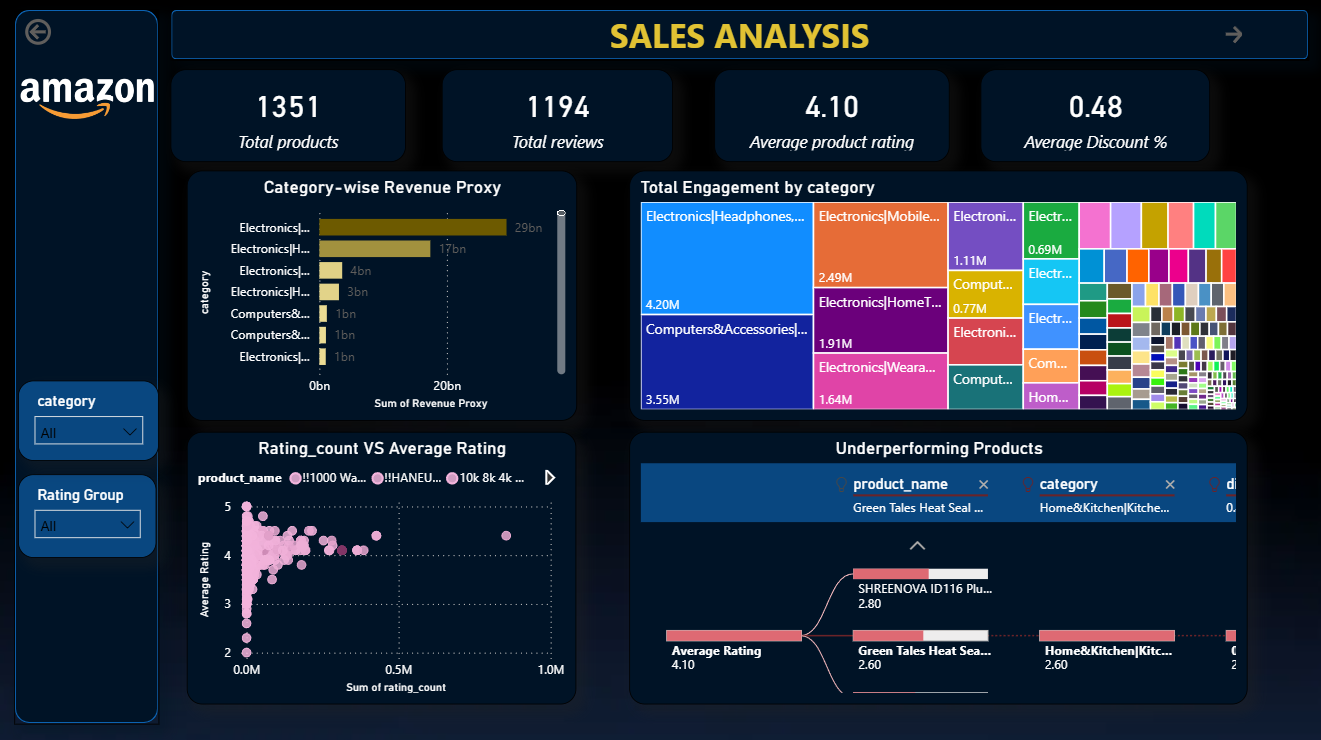

The page's visual inventory and layout, read from the dashboard file:
{"tool":"powerbi","page":{"name":"Executive Dashboard","canvas":[1280,720],"ordinal":1},"visuals":[{"type":"shape","title":"AMAZON SALES","box":[166.5,10.9,1099.1,49.5],"z":0},{"type":"shape","title":"AMAZON SALES","box":[15.7,10.9,139.9,690.1],"z":1000},{"type":"card","fields":{"Values":["Count(amazon_sales.product_id)"]},"box":[166.5,68.8,226.8,89.3],"z":2000},{"type":"card","fields":{"Values":["Count(amazon_sales.review_id)"]},"box":[428.3,68.8,223.2,89.3],"z":3000},{"type":"card","fields":{"Values":["Avg(amazon_sales.rating)"]},"box":[691.3,68.8,226.8,89.3],"z":4000},{"type":"card","fields":{"Values":["Avg(amazon_sales.discount_percentage)"]},"box":[948.3,68.8,222,89.3],"z":5000},{"type":"image","box":[21.7,68.8,129.1,56.7],"z":6000},{"type":"slicer","fields":{"Values":["amazon_sales.Rating Group"]},"box":[19.3,459.7,133.9,80.8],"z":7000},{"type":"slicer","fields":{"Values":["amazon_sales.category"]},"box":[19.3,369.2,136.3,77.2],"z":8000},{"type":"clusteredBarChart","title":"Category-wise Revenue Proxy","fields":{"Category":["amazon_sales.category"],"Y":["Sum(amazon_sales.Revenue Proxy)"]},"box":[182.2,166.5,376.4,241.3],"z":9000},{"type":"treemap","fields":{"Group":["amazon_sales.category"],"Values":["amazon_sales.Total Engagement"]},"box":[609.3,166,596.9,241.5],"z":10000},{"type":"scatterChart","title":"Rating_count VS Average Rating ","fields":{"X":["Sum(amazon_sales.rating_count)"],"Y":["amazon_sales.Average Rating"],"Category":["amazon_sales.product_name"],"Series":["amazon_sales.product_name"]},"box":[182.5,418.5,376,263.5],"z":11000},{"type":"decompositionTreeVisual","title":"Underperforming Products","fields":{"ExplainBy":["amazon_sales.product_name","amazon_sales.category","amazon_sales.discount_percentage","amazon_sales.rating_count"],"Analyze":["amazon_sales.Average Rating"]},"box":[609.3,418.5,596.9,263.5],"z":12000},{"type":"actionButton","box":[22,16,56,34],"z":12001},{"type":"actionButton","box":[1180,23,51,25],"z":12002}]}

Visuals, with their boxes in screenshot pixels (x1, y1, x2, y2), scaled from the page's 1280x720 canvas onto the 1321x740 screenshot:
"AMAZON SALES" shape: 172 11 1306 62
"AMAZON SALES" shape: 16 11 161 720
card - Count(amazon_sales.product_id): 172 71 406 162
card - Count(amazon_sales.review_id): 442 71 672 162
card - Avg(amazon_sales.rating): 713 71 948 162
card - Avg(amazon_sales.discount_percentage): 979 71 1208 162
image: 22 71 156 129
slicer - amazon_sales.Rating Group: 20 472 158 556
slicer - amazon_sales.category: 20 379 161 459
"Category-wise Revenue Proxy" clusteredBarChart: 188 171 576 419
treemap - amazon_sales.category x amazon_sales.Total Engagement: 629 171 1245 419
"Rating_count VS Average Rating " scatterChart: 188 430 576 701
"Underperforming Products" decompositionTreeVisual: 629 430 1245 701
actionButton: 23 16 80 51
actionButton: 1218 24 1270 49
